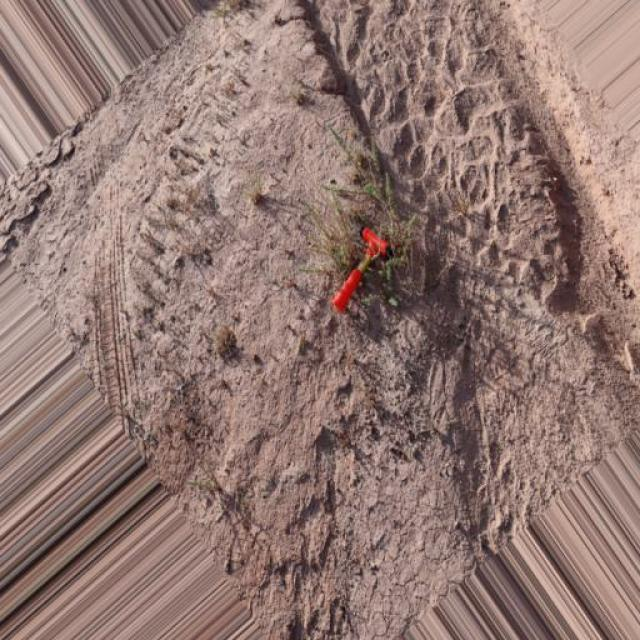mallet: (330, 225, 392, 314)
